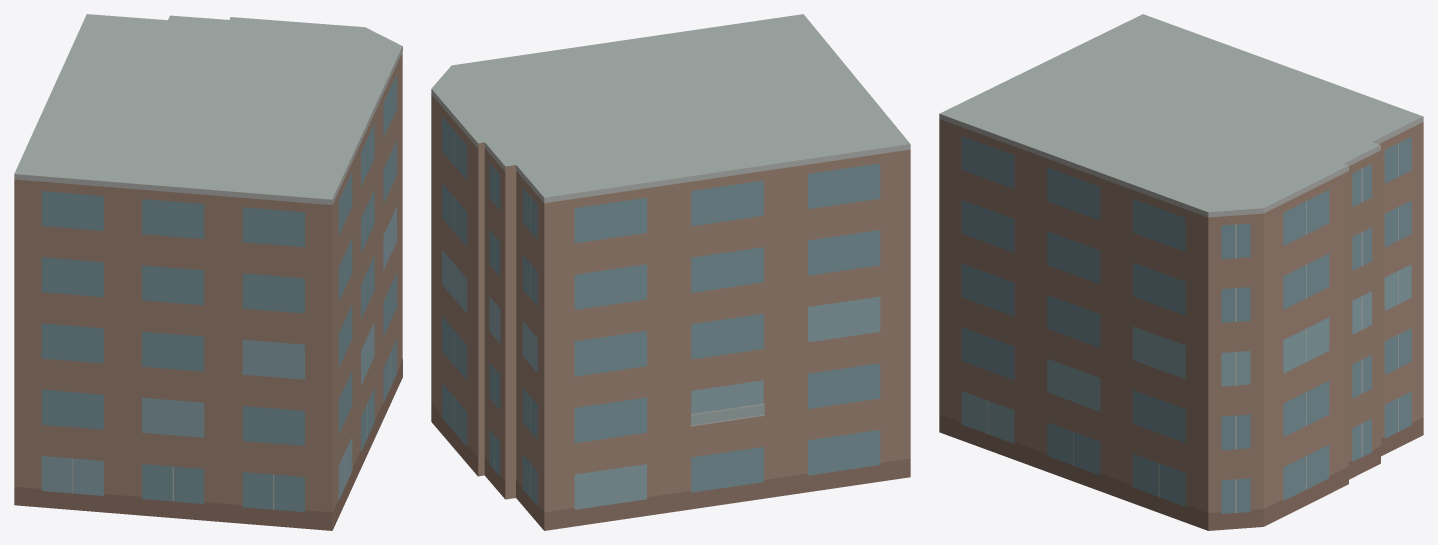
File: survey-upis-32884079.glb
3 views of the same model, side by side, from view 1: azimuth 30°, elevation 25°; view 2: azimuth 150°, elevation 25°; view 3: azimuth 270°, elevation 25° (orthographic). The views are drawn at different scales.
Visible parts, largest first — view 1: survey-upis-32884079.tmp; view 2: survey-upis-32884079.tmp; view 3: survey-upis-32884079.tmp.
Boxes of the visible parts, box(x1,y1,x2,y2) form: survey-upis-32884079.tmp: box(14, 14, 402, 530); survey-upis-32884079.tmp: box(431, 14, 910, 530); survey-upis-32884079.tmp: box(939, 14, 1423, 530).
Size of the model in its own units: 19.9 by 14.9 by 20.54.
